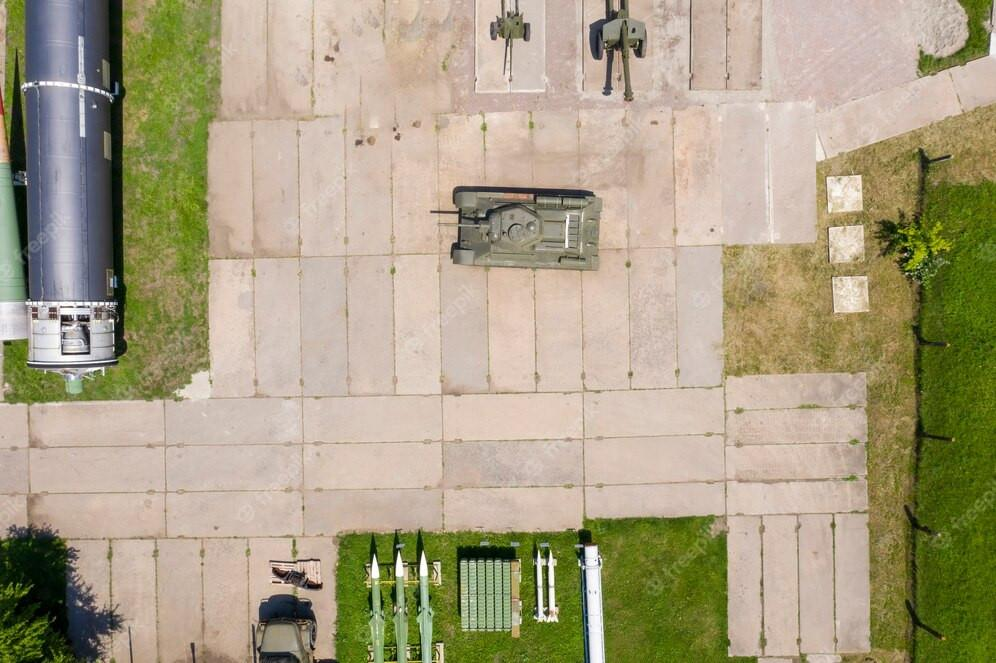tank: (436, 190, 606, 273)
